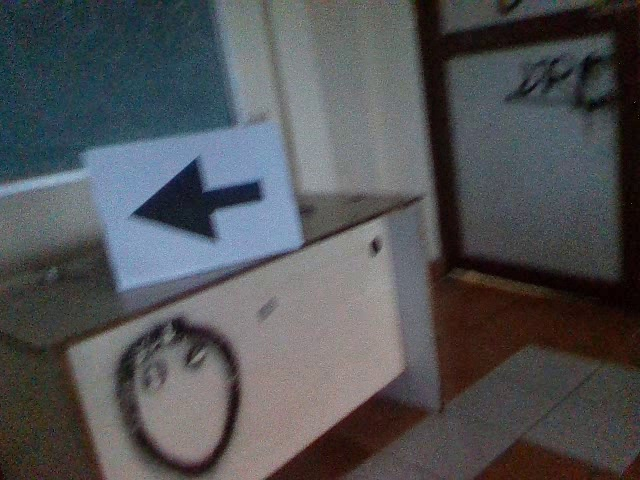Left: (122, 151, 266, 246)
